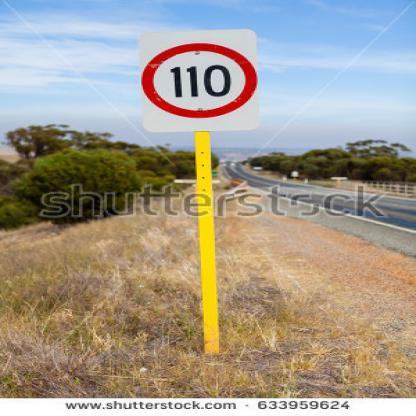Speed Limit 110: (140, 41, 256, 115)
